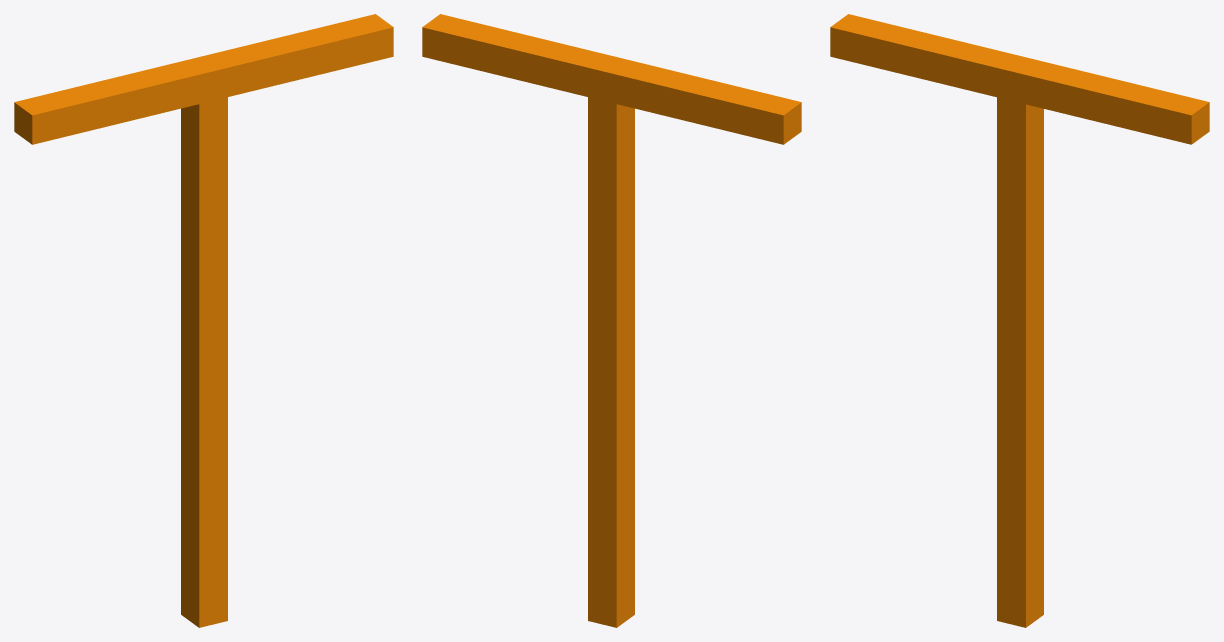
The picture shows the model from 3 angles, left to right: view 1: azimuth 30°, elevation 25°; view 2: azimuth 150°, elevation 25°; view 3: azimuth 330°, elevation 25°; orthographic projection.
Parts seen in each view (by area): view 1: T; view 2: T; view 3: T.
Boxes of the visible parts, x1=… form: T: x1=14, y1=14, x2=393, y2=627; T: x1=422, y1=14, x2=801, y2=627; T: x1=830, y1=14, x2=1209, y2=627.
Size of the model in its own units: 57.5 by 84.1 by 5.
